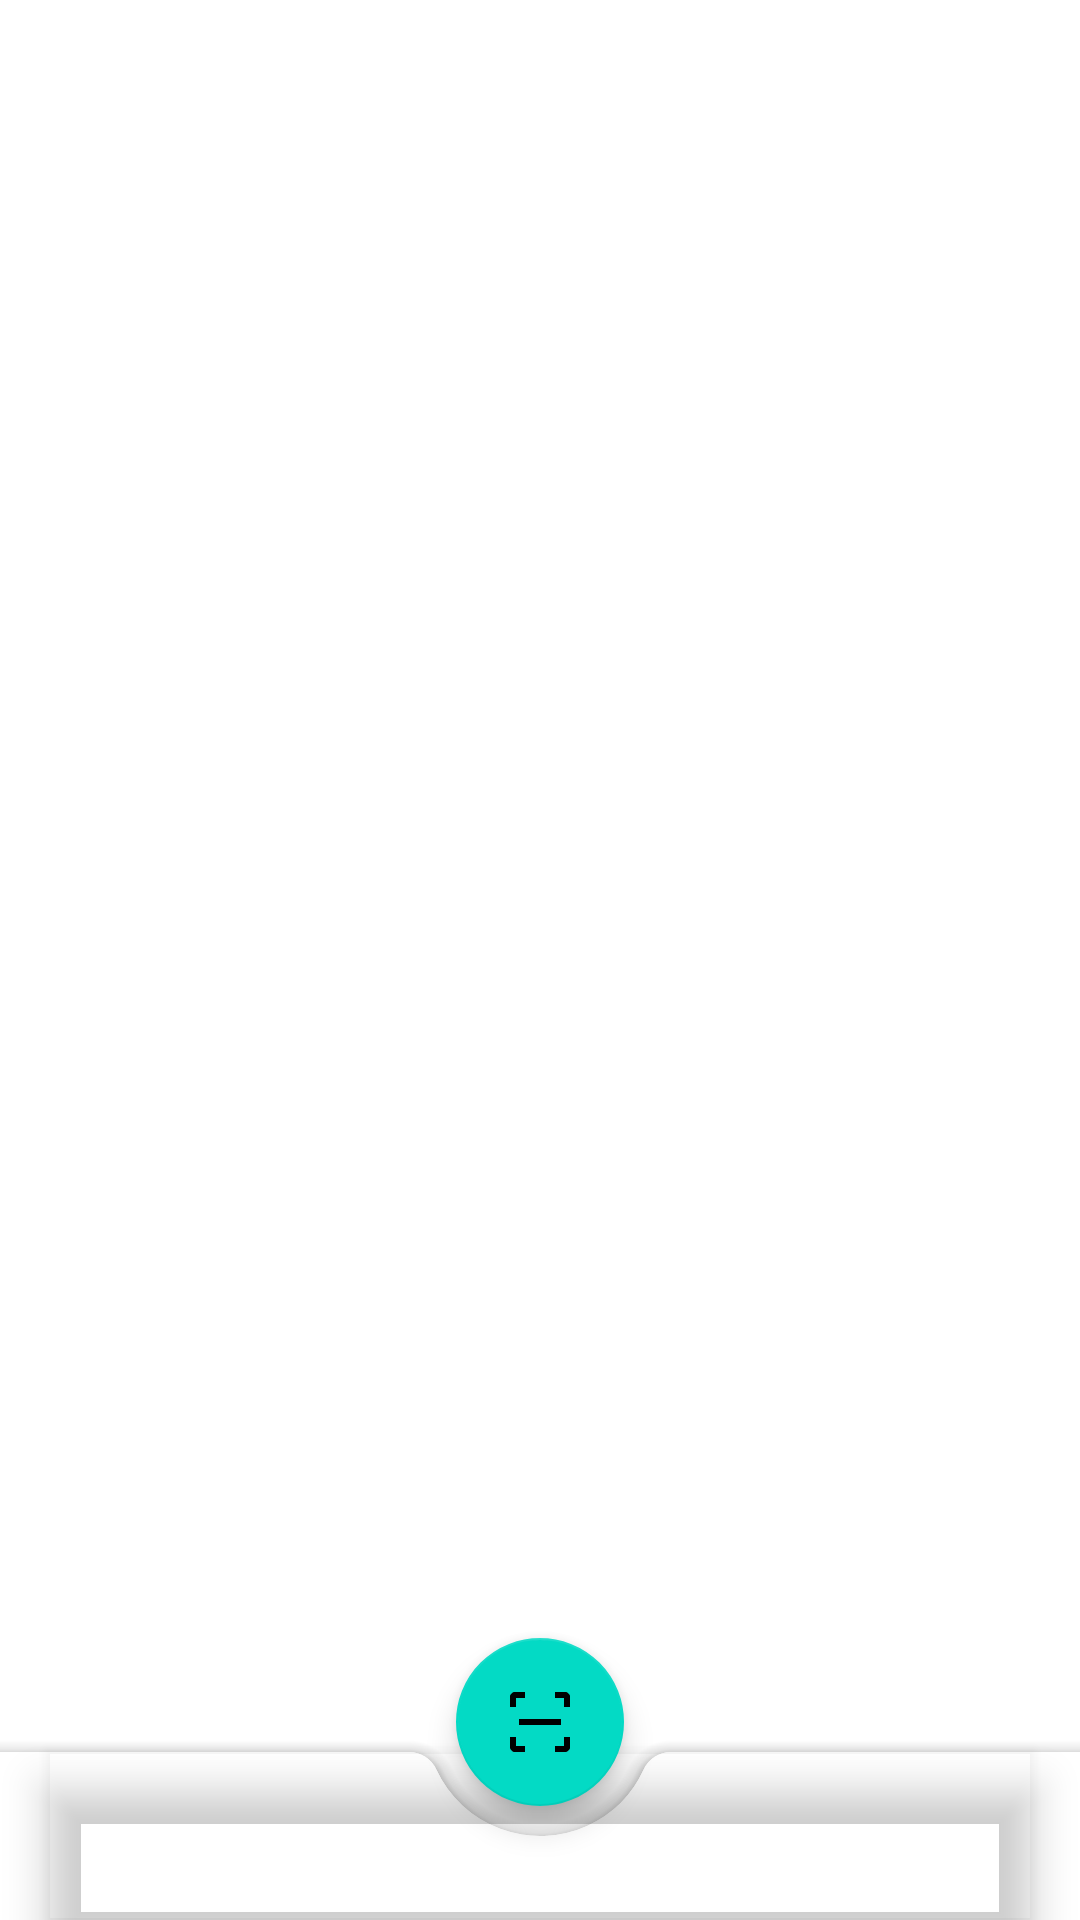

Named icons in this screenshot (1080×1920) and their centers, (x,y):
Scan: (540,1752)
